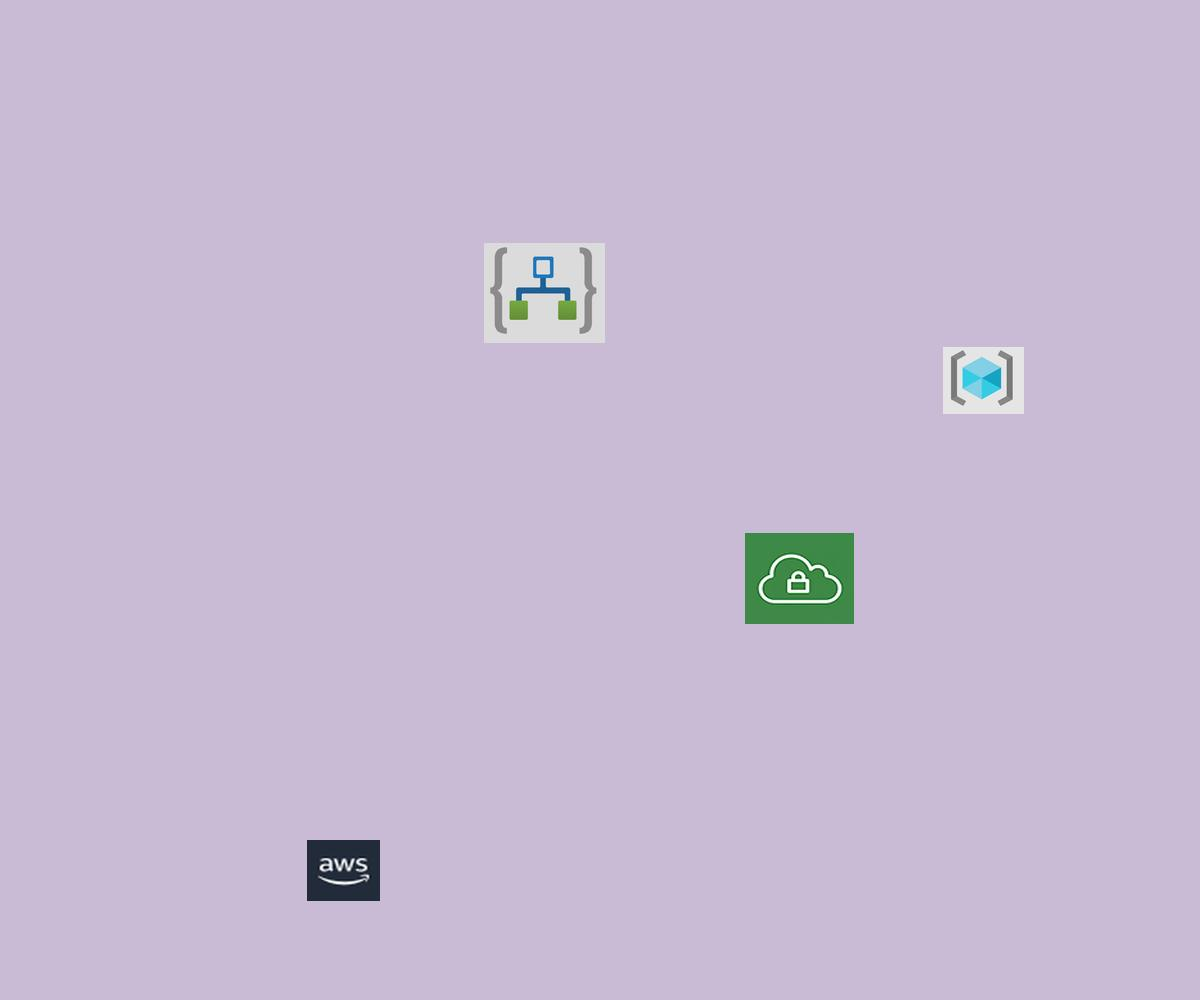AWS-Cloud-logo: (307, 840, 380, 901)
AWS-Private_vpc: (745, 533, 854, 624)
Azure_integration-204-Logic-Apps: (484, 243, 605, 343)
Azure_resource_group: (943, 347, 1024, 414)
